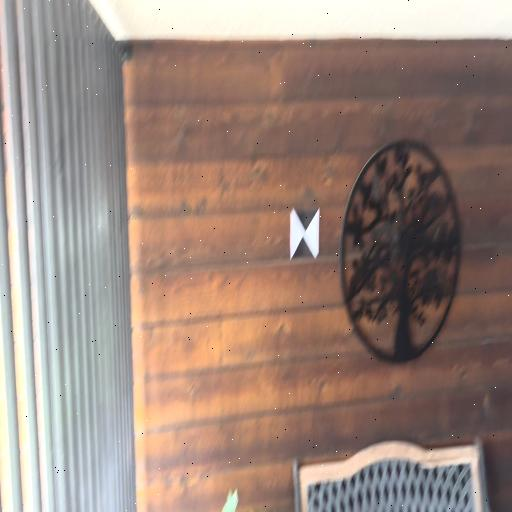target: (291, 208, 319, 258)
